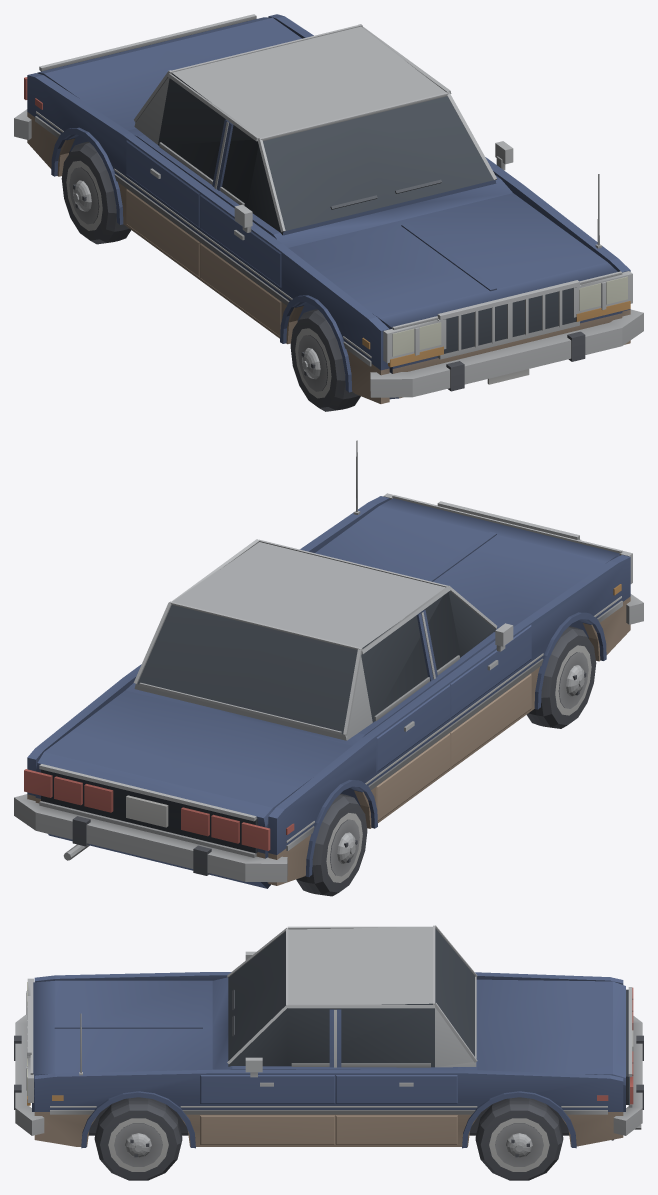
The model's file is sedan.glb.
The picture shows the model from 3 angles, top to bottom: view 1: azimuth 30°, elevation 25°; view 2: azimuth 150°, elevation 25°; view 3: azimuth 270°, elevation 25°; orthographic projection. The views are drawn at different scales.
Parts seen in each view (by area): view 1: sedan; view 2: sedan; view 3: sedan.
Part boxes in pixels (x1,y1,x2,y2): sedan: (14,14,643,411); sedan: (14,440,643,896); sedan: (14,925,643,1180).
Size of the model in its own units: 2.07 by 1.42 by 4.88.
